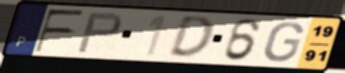1: (146, 15, 168, 57)
6: (222, 18, 262, 63)
D: (165, 15, 215, 61)
F: (33, 8, 87, 54)
G: (262, 21, 306, 64)
P: (74, 11, 125, 54)
